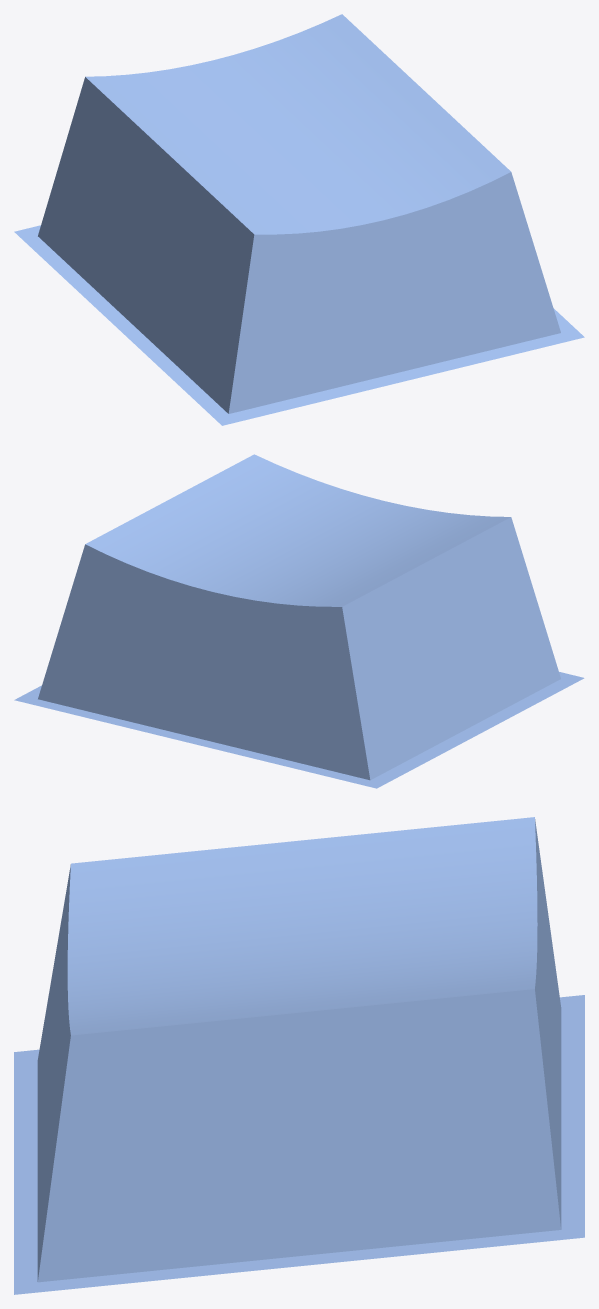
File: original-17.obj
3 views of the same model, one above another, from view 1: azimuth 30°, elevation 25°; view 2: azimuth 150°, elevation 25°; view 3: azimuth 270°, elevation 25° (orthographic). The views are drawn at different scales.
Parts seen in each view (by area): view 1: kb_key2_4/kb_key2/mesh3/mesh3-geometry#mesh3-geometry; view 2: kb_key2_4/kb_key2/mesh3/mesh3-geometry#mesh3-geometry; view 3: kb_key2_4/kb_key2/mesh3/mesh3-geometry#mesh3-geometry.
Part boxes in pixels (x1,y1,x2,y2): kb_key2_4/kb_key2/mesh3/mesh3-geometry#mesh3-geometry: (14,14,584,425); kb_key2_4/kb_key2/mesh3/mesh3-geometry#mesh3-geometry: (14,454,584,788); kb_key2_4/kb_key2/mesh3/mesh3-geometry#mesh3-geometry: (14,817,584,1294).
Size of the model in its own units: 0.0768 by 0.0399 by 0.0764.
